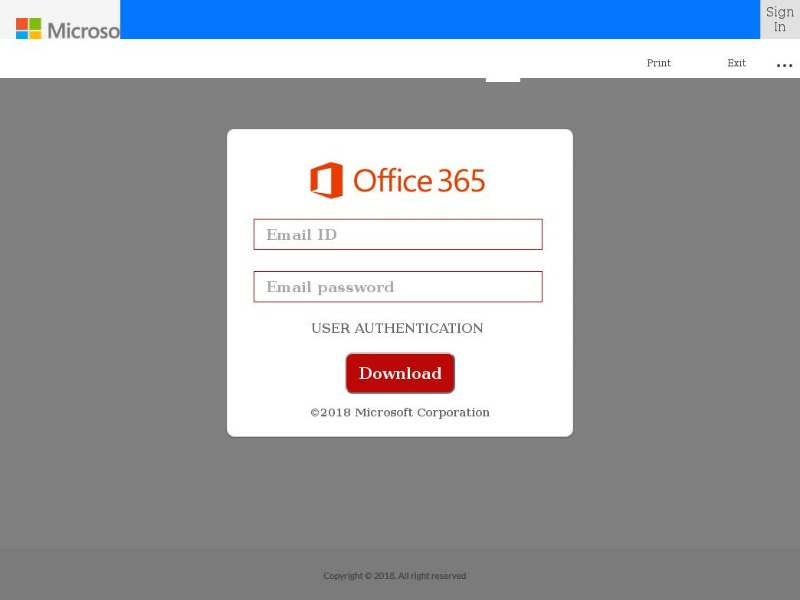msft: (7, 13, 130, 51)
